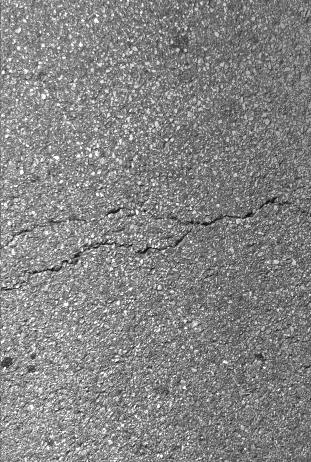crack: (0, 199, 297, 284)
